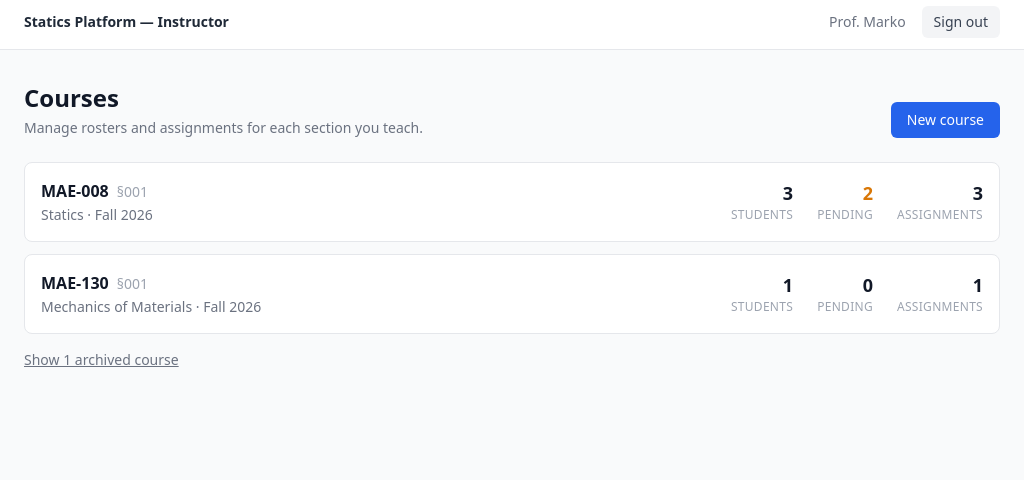
Scenario: courses page › hides archived courses until asked
Check: the heading "MAE-130§001" is shown, box [41,271,148,295]
Check: the text "Spring 2026" is not shown
Click the button "Show 1 archived course". click: point(101, 360)
box: [24,350,179,370]
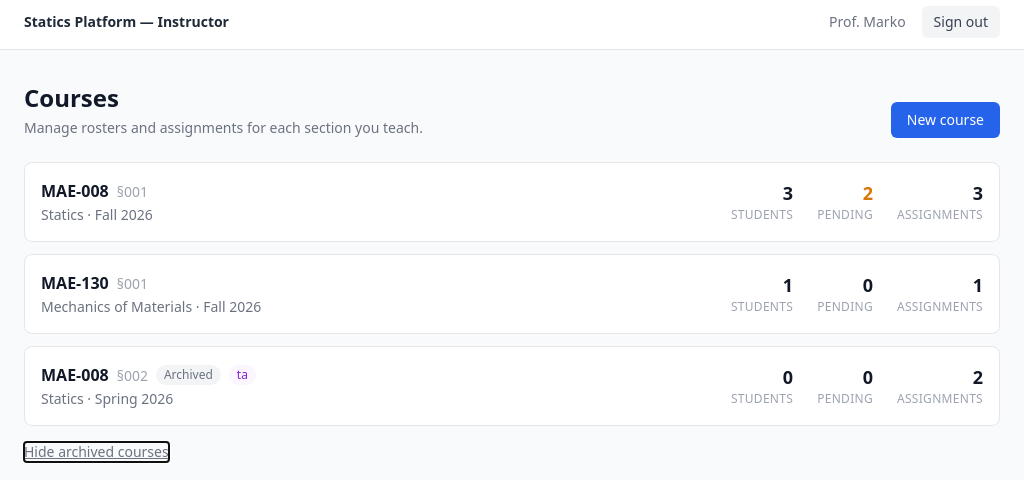
Check: the text "Statics · Spring 2026" is shown, box [41,389,173,408]
Check: the text "Archived" is shown, box [156,365,221,385]
